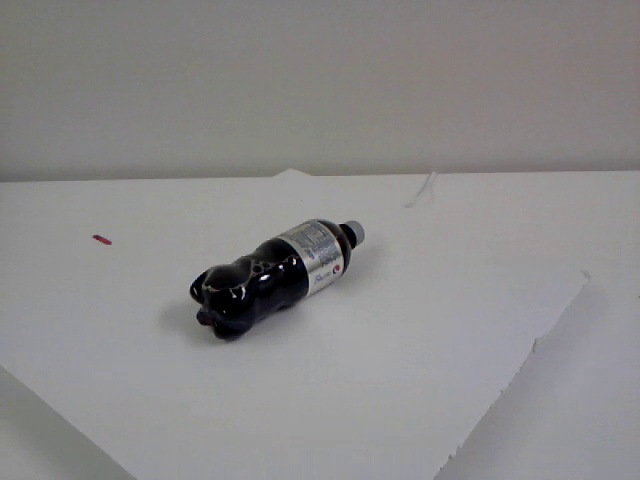botolplastik: (188, 221, 367, 341)
